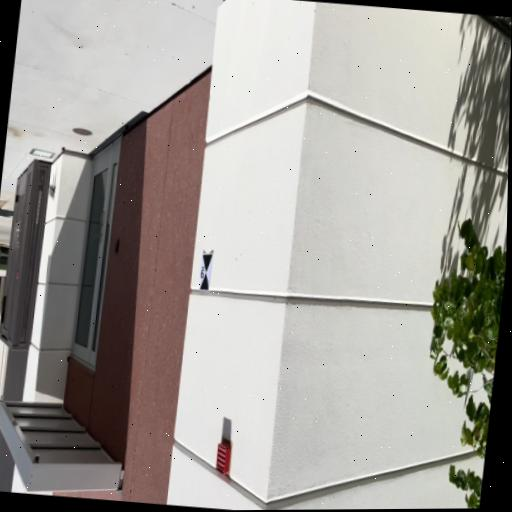target9: (198, 253, 214, 290)
